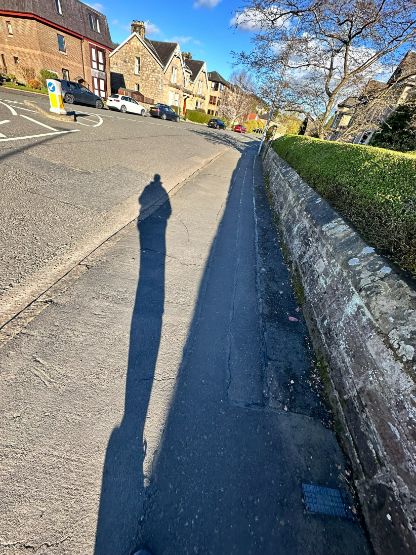car: (46, 71, 103, 112), (106, 92, 151, 117), (151, 99, 181, 129), (204, 114, 224, 133), (231, 121, 252, 136)
tree: (237, 0, 416, 137)
